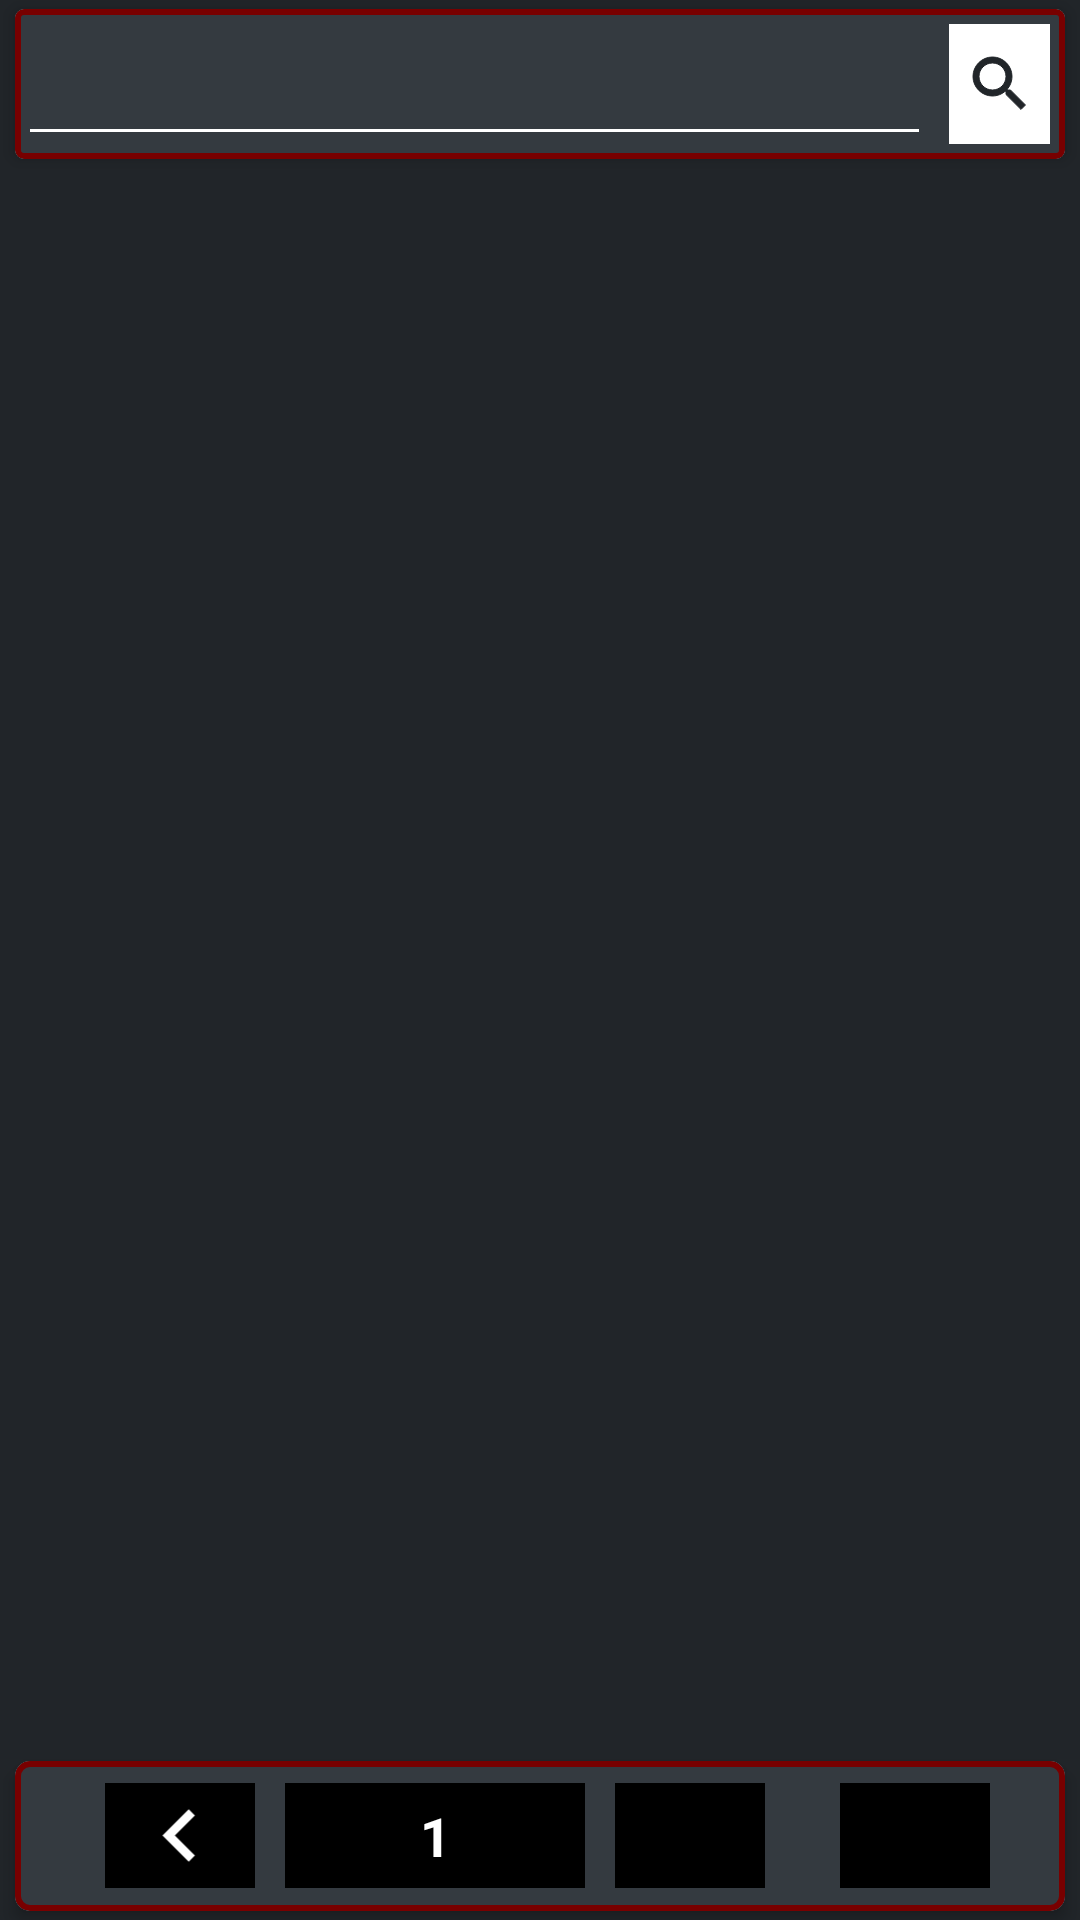

Locate icon controls on the screen. Image size 1080 × 1920, boxes as (x1, y1, x2, y2).
leftarrow: (105, 1783, 255, 1888)
search: (949, 24, 1050, 144)
